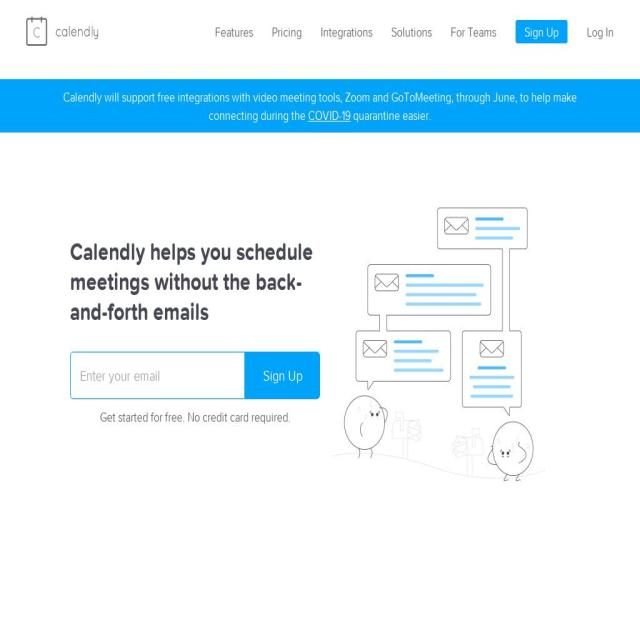button: (26, 0, 98, 62), (312, 22, 380, 41), (516, 20, 568, 43), (442, 22, 504, 41), (383, 22, 440, 41), (207, 22, 261, 41), (264, 22, 310, 41), (578, 22, 614, 41)
field: (70, 352, 245, 399), (245, 352, 320, 399)
heading: (70, 236, 320, 326)
image: (320, 203, 558, 487), (26, 16, 98, 46)
link: (308, 107, 351, 123)
text: (63, 88, 577, 124), (70, 408, 320, 434), (351, 107, 431, 123)
